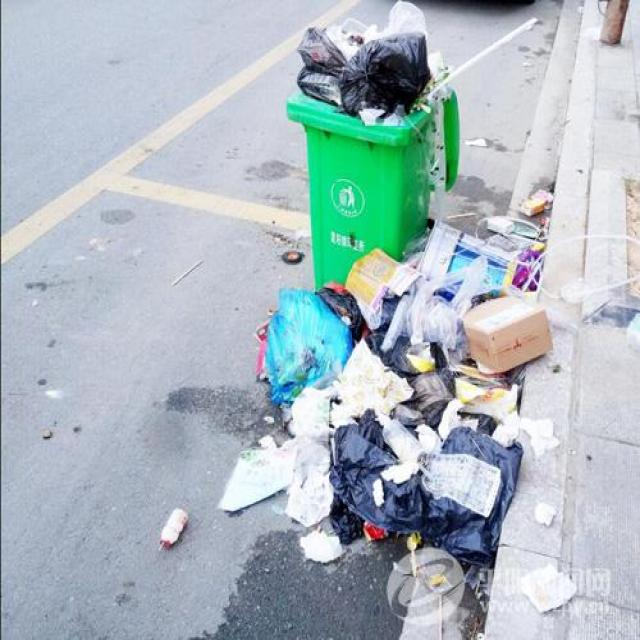garbage: (155, 186, 576, 613)
overflow: (284, 0, 460, 288)
